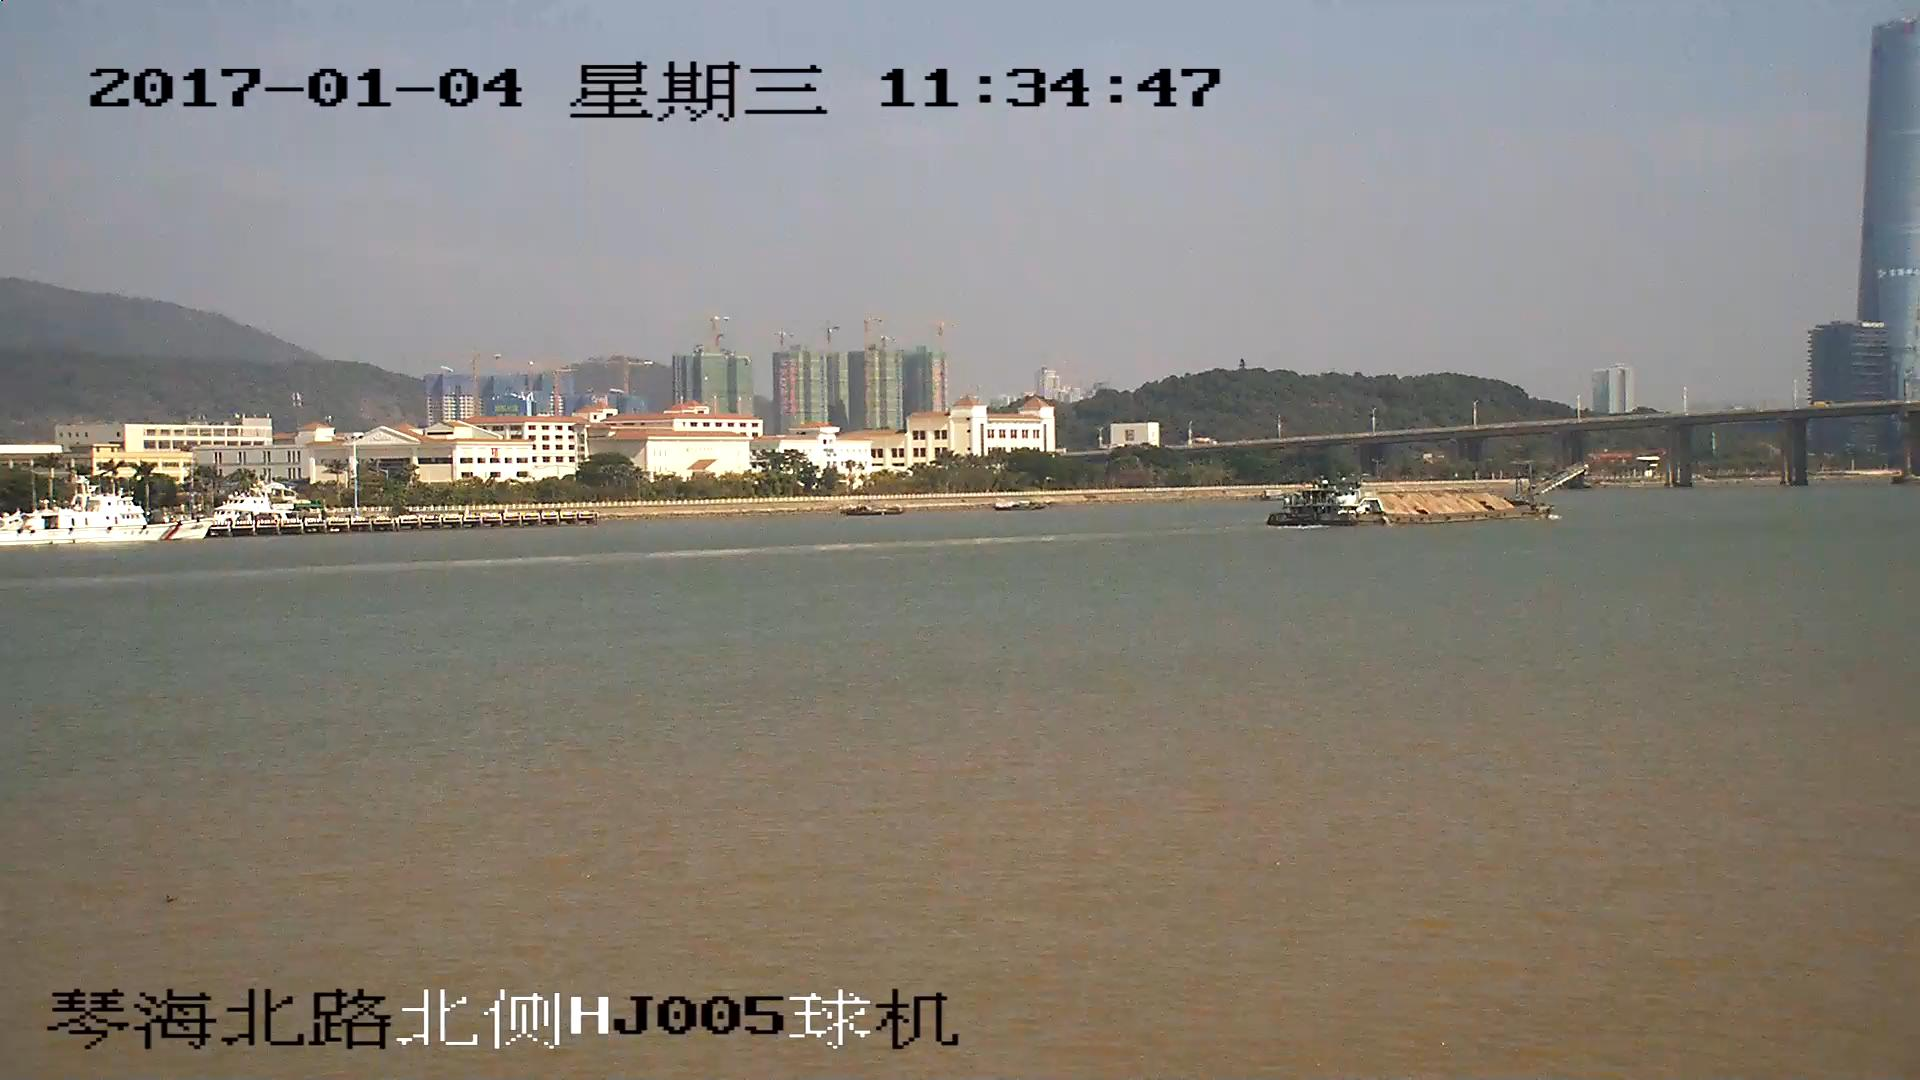ore carrier: (1269, 465, 1588, 528)
